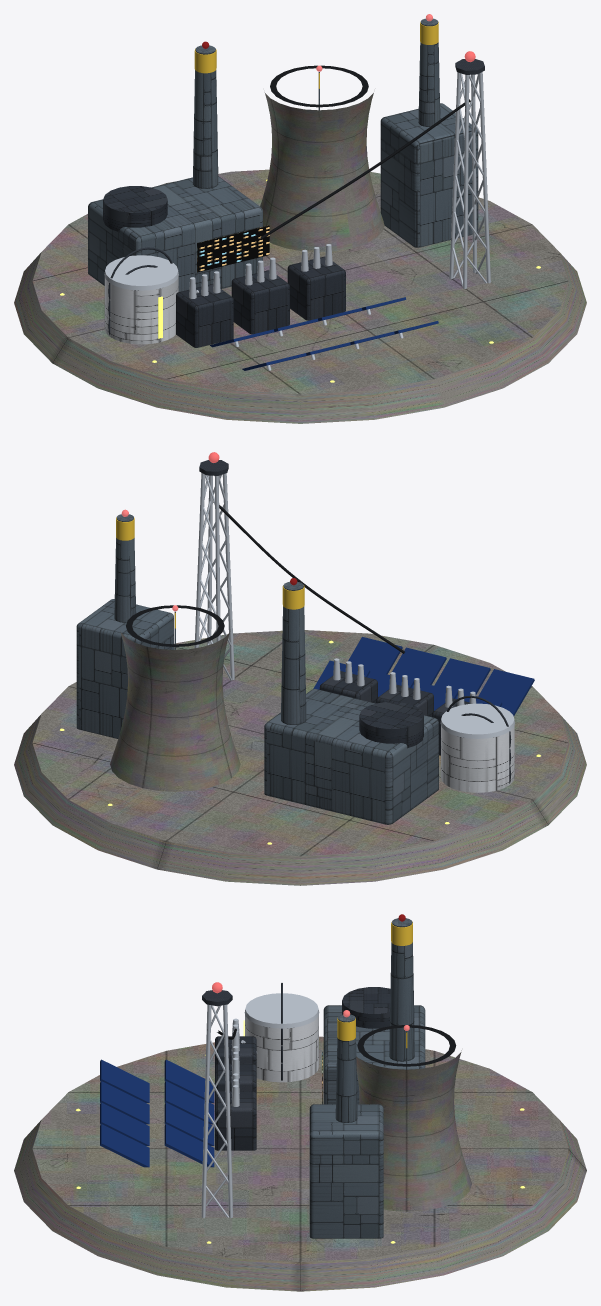
File: power-T3.glb
The picture shows the model from 3 angles, top to bottom: view 1: azimuth 30°, elevation 25°; view 2: azimuth 150°, elevation 25°; view 3: azimuth 270°, elevation 25°; orthographic projection.
Parts seen in each view (by area): view 1: object 1, object 17, object 21, object 12, anim:smoke (×2), object 103, object 28, object 24, object 32, object 13, object 14, object 104 (+2 smaller); view 2: object 1, object 12, object 17, object 21, anim:smoke (×2), object 103, object 13, object 104, object 95, object 101, object 97, object 99 (+4 smaller); view 3: object 1, object 17, object 21, anim:smoke (×2), object 103, object 12, object 104, object 32, object 13, object 101, object 99, object 97 (+8 smaller).
Part boxes in pixels (<box>): object 1: <box>14,169,586,423</box>; object 17: <box>260,92,384,252</box>; object 21: <box>380,103,478,247</box>; object 12: <box>88,176,262,291</box>; anim:smoke (×2): <box>193,18,440,188</box>; object 103: <box>104,276,178,344</box>; object 28: <box>231,270,289,334</box>; object 24: <box>176,284,233,347</box>; object 32: <box>287,256,345,320</box>; object 13: <box>103,186,167,232</box>; object 14: <box>197,225,269,272</box>; object 104: <box>104,255,178,290</box>; object 1: <box>14,630,586,885</box>; object 12: <box>264,688,438,824</box>; object 17: <box>110,631,240,791</box>; object 21: <box>76,599,173,738</box>; anim:smoke (×2): <box>114,514,306,724</box>; object 103: <box>441,725,514,792</box>; object 13: <box>359,702,423,748</box>; object 104: <box>440,703,514,738</box>; object 95: <box>478,669,534,716</box>; object 101: <box>348,637,402,677</box>; object 97: <box>434,658,490,699</box>; object 99: <box>392,647,446,688</box>; object 1: <box>14,1036,586,1291</box>; object 17: <box>356,1050,471,1211</box>; object 21: <box>309,1104,383,1238</box>; anim:smoke (×2): <box>335,918,414,1122</box>; object 103: <box>245,1014,318,1082</box>; object 12: <box>323,1005,425,1104</box>; object 104: <box>244,993,319,1028</box>; object 32: <box>215,1091,256,1150</box>; object 13: <box>342,987,390,1028</box>; object 101: <box>100,1124,149,1167</box>; object 99: <box>100,1102,149,1145</box>; object 97: <box>100,1081,149,1124</box>.
Bounding box in the file's own units: 6.2 × 3.02 × 6.2.
17 materials, 7 textured.
